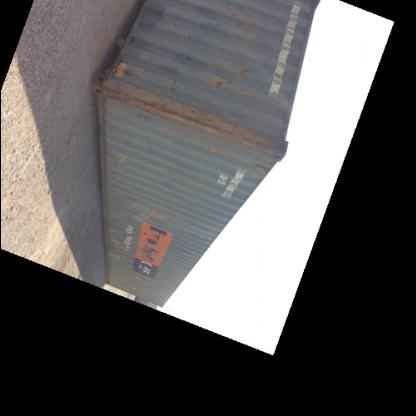Damage: (132, 104, 232, 138), (107, 216, 130, 262), (111, 148, 141, 172), (251, 151, 273, 179), (210, 76, 236, 94), (235, 58, 256, 80), (224, 9, 252, 24), (111, 62, 137, 77), (170, 76, 184, 96), (182, 36, 198, 43)
